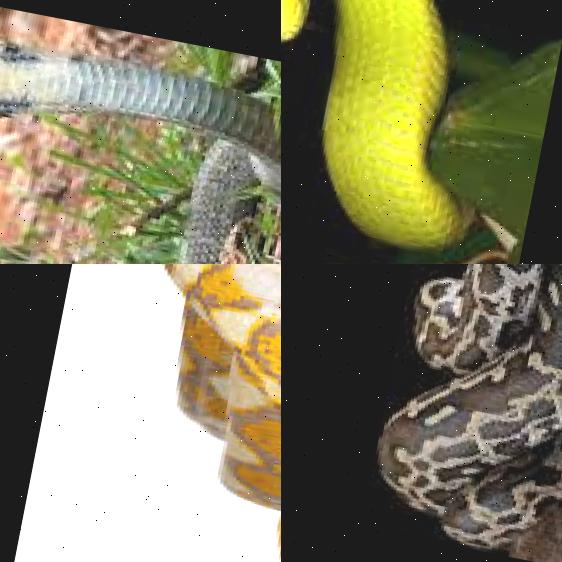snake: (0, 0, 281, 264), (329, 264, 562, 562), (281, 0, 536, 264), (101, 264, 281, 562)
